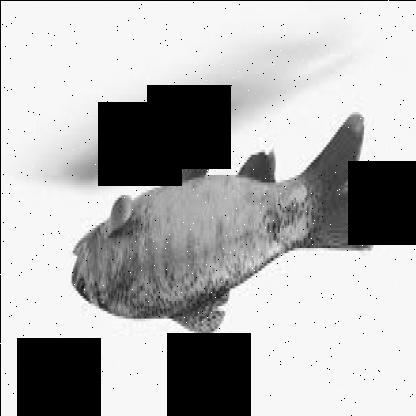fish: (73, 118, 374, 338)
